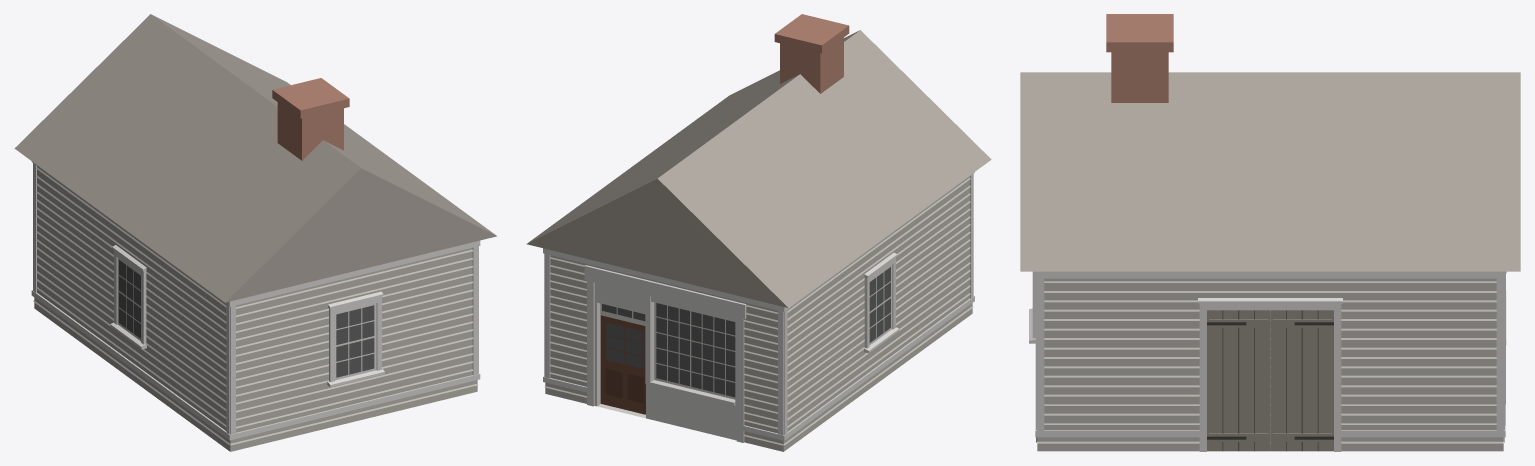
The model's file is recon_1835_core_c1_048__inferred_1835.glb.
3 renders of one model, left to right at view 1: azimuth 30°, elevation 25°; view 2: azimuth 150°, elevation 25°; view 3: azimuth 270°, elevation 25°, orthographic. The views are drawn at different scales.
Parts seen in each view (by area): view 1: recon_1835_core_c1_048__inferred_1835; view 2: recon_1835_core_c1_048__inferred_1835; view 3: recon_1835_core_c1_048__inferred_1835.
Part boxes in pixels (<box>): recon_1835_core_c1_048__inferred_1835: <box>14,14,496,451</box>; recon_1835_core_c1_048__inferred_1835: <box>526,14,991,451</box>; recon_1835_core_c1_048__inferred_1835: <box>1020,14,1520,451</box>.
Bounding box in the file's own units: 5.45 × 5.66 × 7.3.
